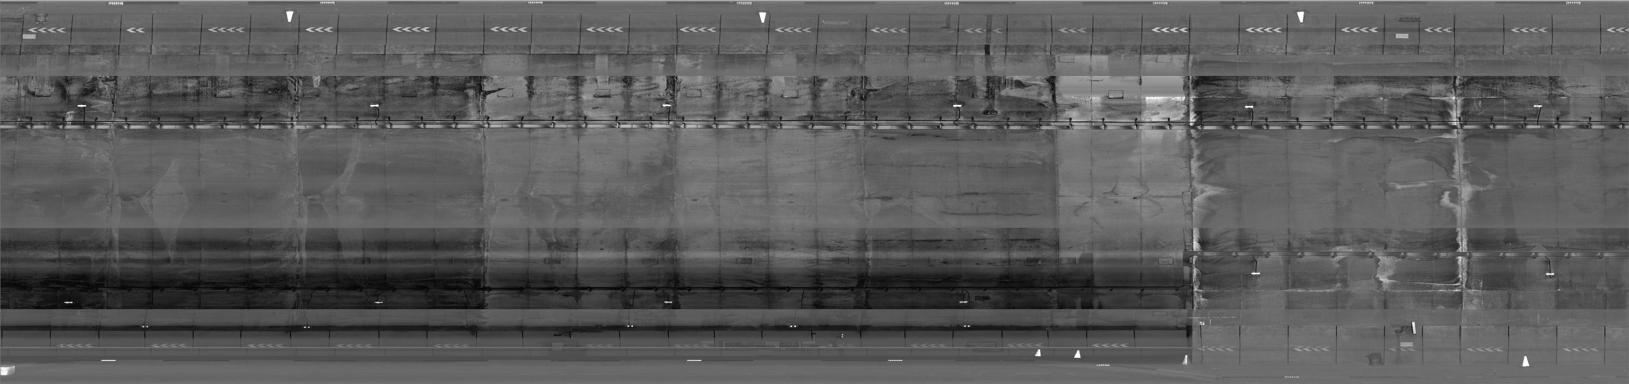light: (1244, 265, 1272, 285), (368, 295, 394, 314), (953, 293, 980, 310), (655, 295, 683, 310), (71, 99, 97, 115), (56, 295, 83, 310), (1239, 100, 1264, 115), (1538, 270, 1563, 283), (366, 101, 389, 114), (949, 99, 969, 113), (1527, 100, 1548, 114), (658, 99, 676, 113)
